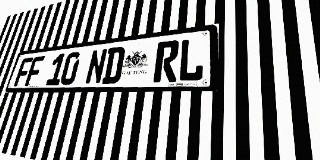0: (59, 51, 81, 85)
1: (45, 53, 67, 85)
D: (101, 46, 126, 84)
F: (24, 56, 45, 86), (13, 57, 33, 86)
L: (177, 37, 205, 82)
N: (84, 48, 108, 84)
R: (153, 40, 180, 82)
